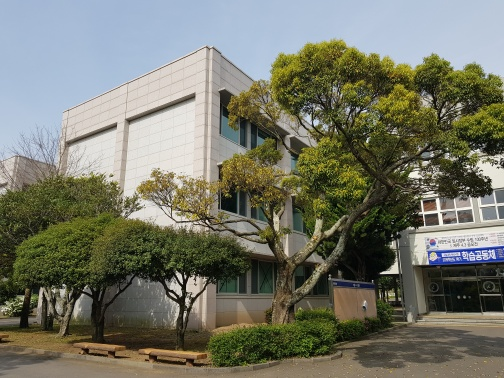College of Nursing: (58, 41, 496, 314)
